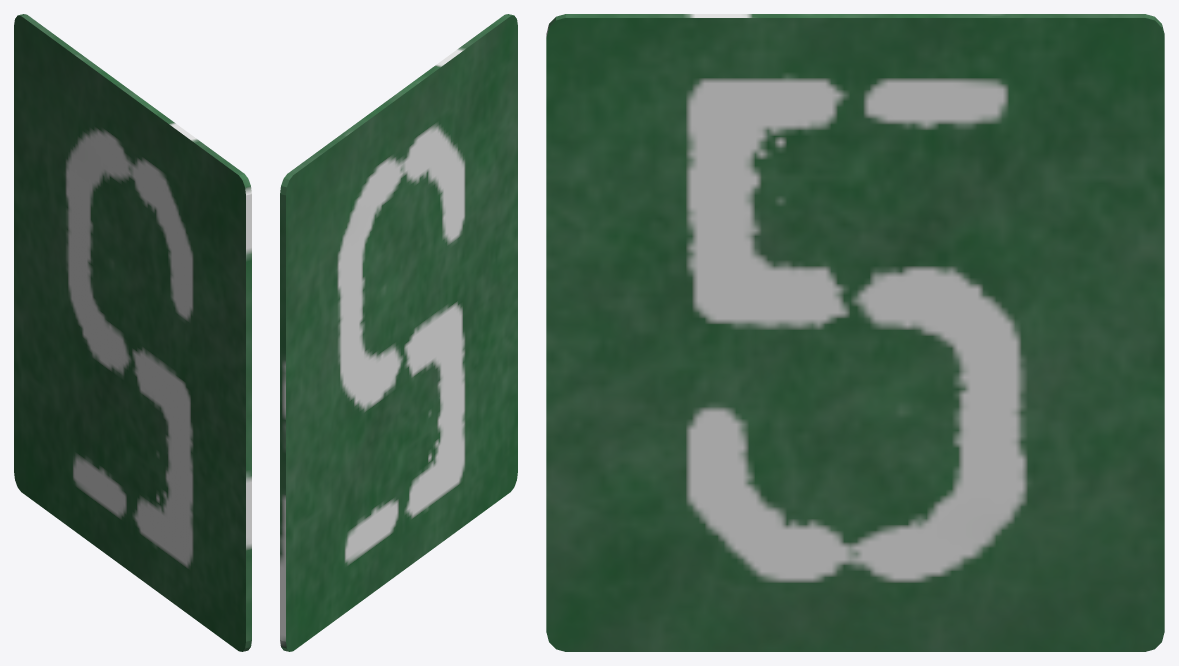
The model's file is DecalNumberFive.fbx.
The picture shows the model from 3 angles, left to right: view 1: azimuth 30°, elevation 25°; view 2: azimuth 150°, elevation 25°; view 3: azimuth 270°, elevation 25°; orthographic projection. The views are drawn at different scales.
Parts seen in each view (by area): view 1: DecalNumberFive; view 2: DecalNumberFive; view 3: DecalNumberFive.
Boxes of the visible parts, bbox=[...] form: DecalNumberFive: bbox=[14, 14, 251, 651]; DecalNumberFive: bbox=[280, 14, 517, 651]; DecalNumberFive: bbox=[546, 14, 1164, 651].
Bounding box in the file's own units: 5.01e-05 × 0.00385 × 0.0034.
